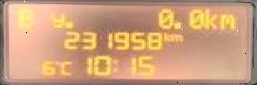-: (63, 19, 72, 28), (172, 20, 180, 29)
0: (90, 54, 110, 74), (155, 7, 172, 28), (187, 8, 202, 29)
1: (83, 54, 92, 73), (105, 31, 112, 49), (129, 55, 135, 74)
2: (62, 30, 78, 49)
3: (79, 30, 95, 49)
5: (135, 54, 154, 74), (129, 30, 145, 49)
6: (40, 59, 55, 74)
8: (145, 31, 160, 49)
9: (112, 31, 128, 49)
X: (202, 7, 217, 28), (217, 13, 233, 29), (49, 12, 64, 28), (59, 59, 70, 74), (168, 33, 182, 42), (110, 56, 117, 71), (162, 30, 170, 41)
